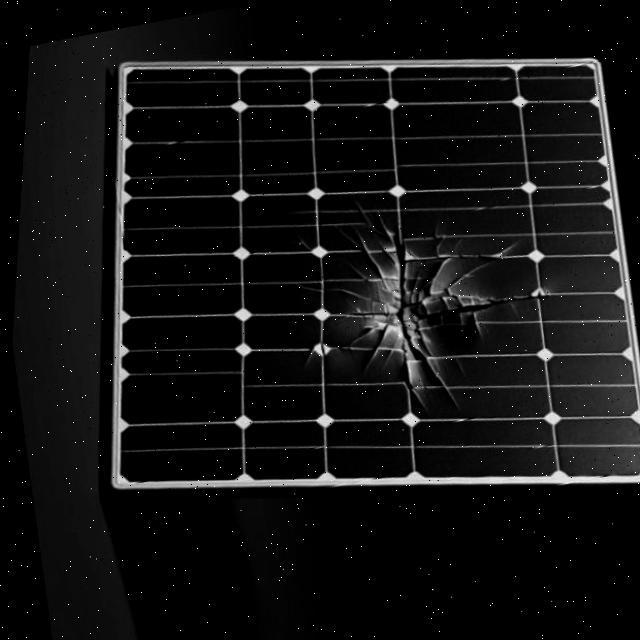Anomaly Solar Panel: (104, 60, 640, 485)
Structural Damage: (278, 177, 540, 436)
